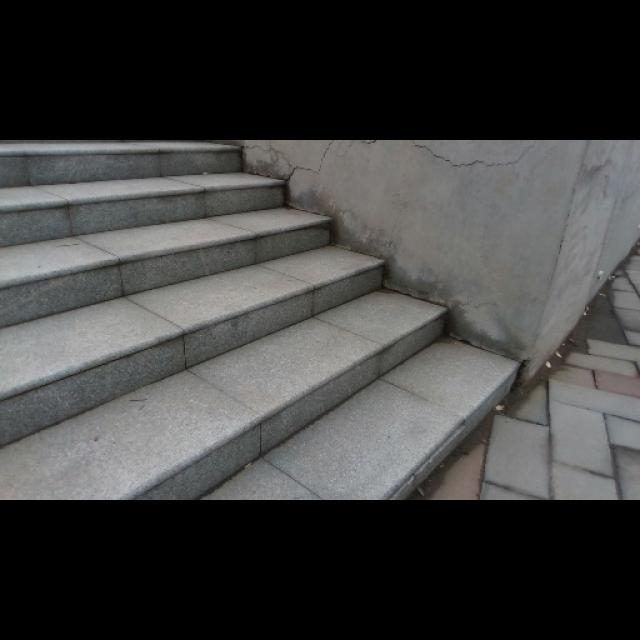Stairs: (0, 140, 521, 500)
